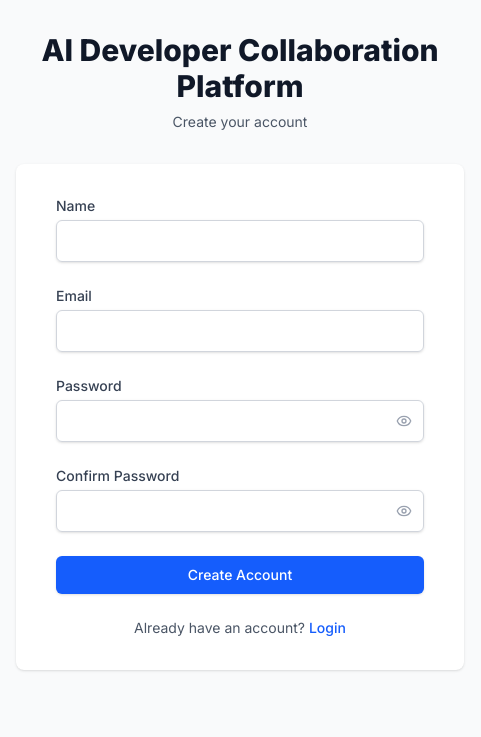
Test: Register Page › 7. displays duplicate email error from backend
The image size is (481, 737).
Type "Ashish" into the field labelled "Name" at point(240, 241), box x1=56 y1=220 x2=424 y2=262
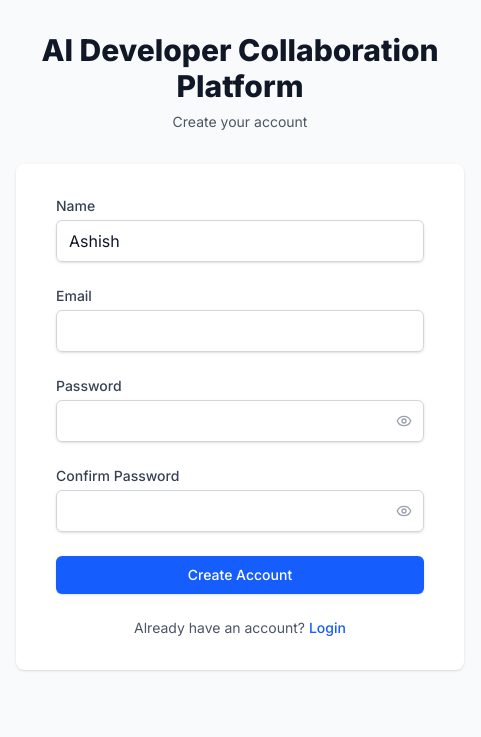
Type "ashish@example.com" into the field labelled "Email" at point(240, 331), box x1=56 y1=310 x2=424 y2=352
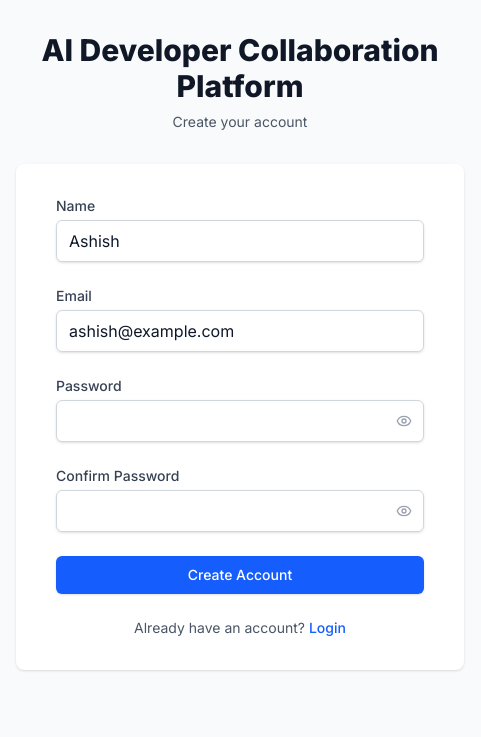
Type "password123" into the password field labelled "Password" at point(240, 421), box x1=56 y1=400 x2=424 y2=442
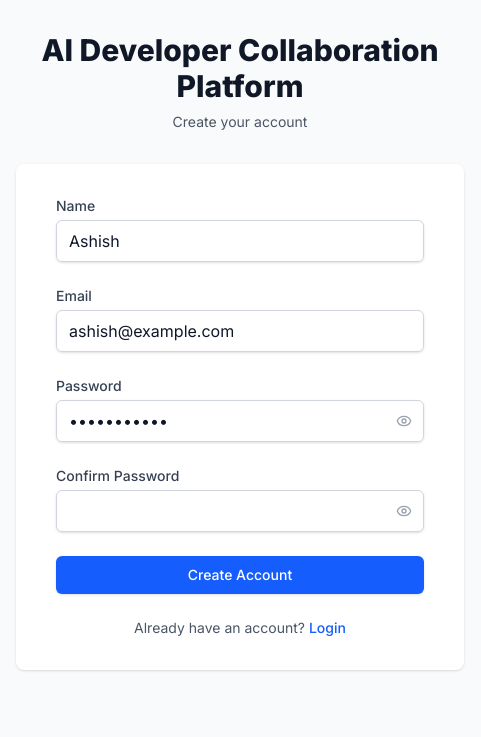
Type "password123" into the password field labelled "Confirm Password" at point(240, 511), box x1=56 y1=490 x2=424 y2=532
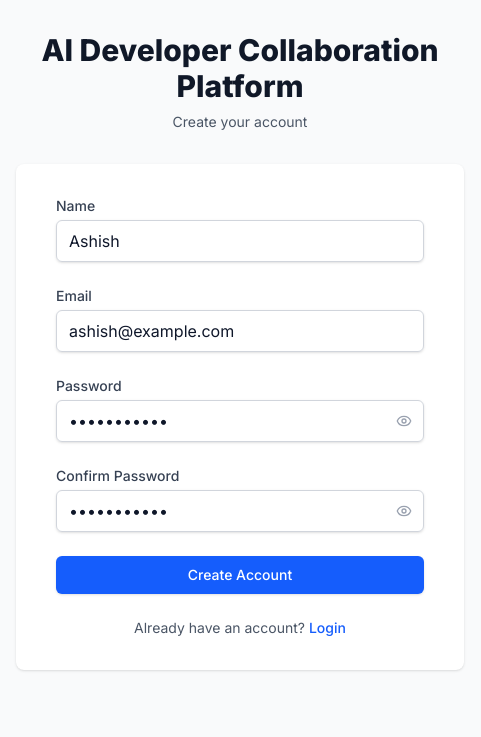
Click the button "Create Account" at point(240, 575), box x1=56 y1=556 x2=424 y2=594
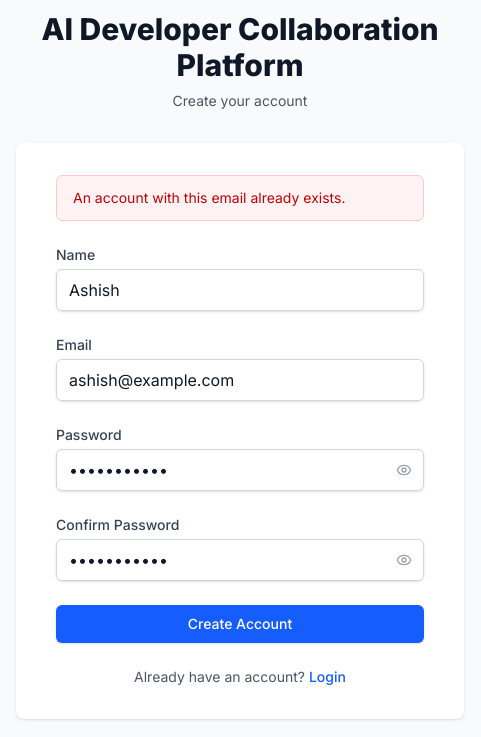
Expected: the text "An account with this email already exists." is shown, x1=56 y1=175 x2=424 y2=221
